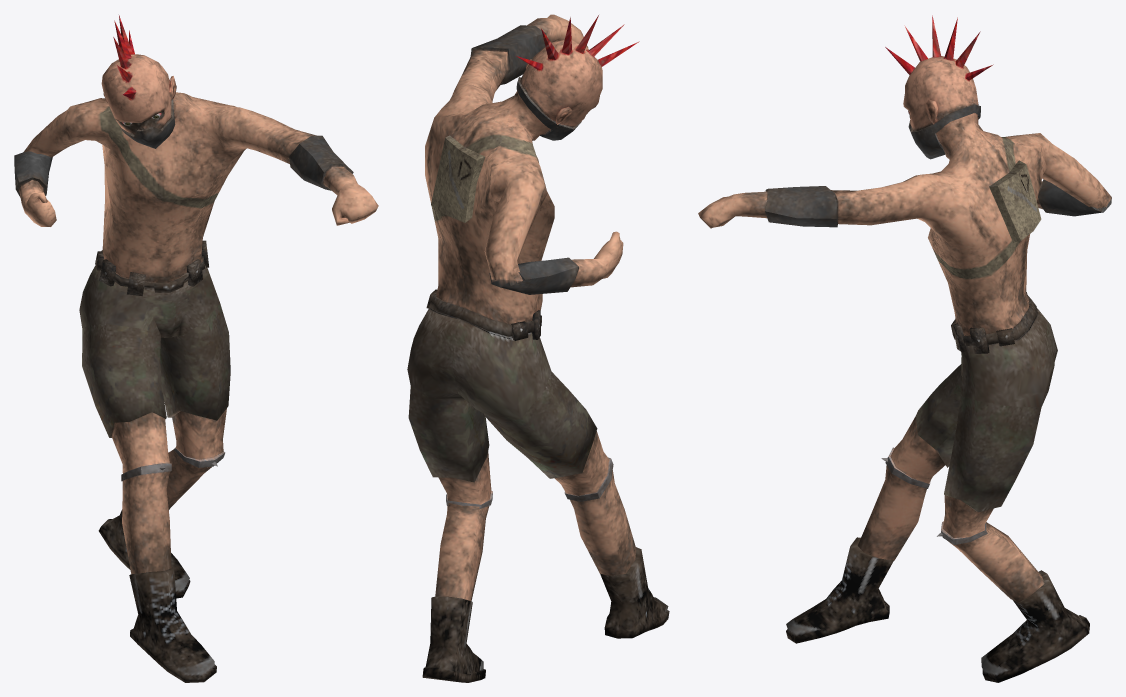
Rendered from Anim_ataque_d2_npc2.0032.obj.
3 renders of one model, left to right at view 1: azimuth 30°, elevation 25°; view 2: azimuth 150°, elevation 25°; view 3: azimuth 270°, elevation 25°, orthographic. The views are drawn at different scales.
Visible parts, largest first — view 1: polySurface1; view 2: polySurface1; view 3: polySurface1.
Boxes of the visible parts, left/top/right/bottom form: polySurface1: left=14, top=15, right=378, bottom=682; polySurface1: left=407, top=14, right=669, bottom=682; polySurface1: left=698, top=15, right=1111, bottom=682.
Size of the model in its own units: 3.53 by 9.53 by 5.74.
